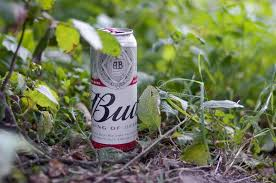can: (91, 28, 139, 151)
